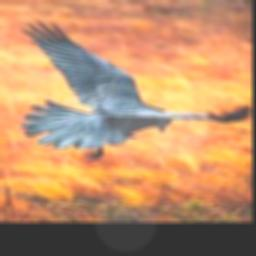Crow: (19, 18, 252, 159)
